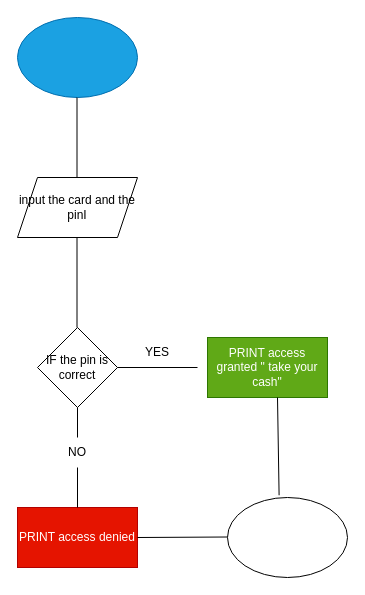
The diagram is 365 pixels wide and 595 high, and some of its shapes have lost their labels. The shapes that lost their labels are listed below. From the top down, each one's centre as x and y in pixels, then its label:
At pixel 77 57: "BEGIN".
At pixel 287 537: "END".
